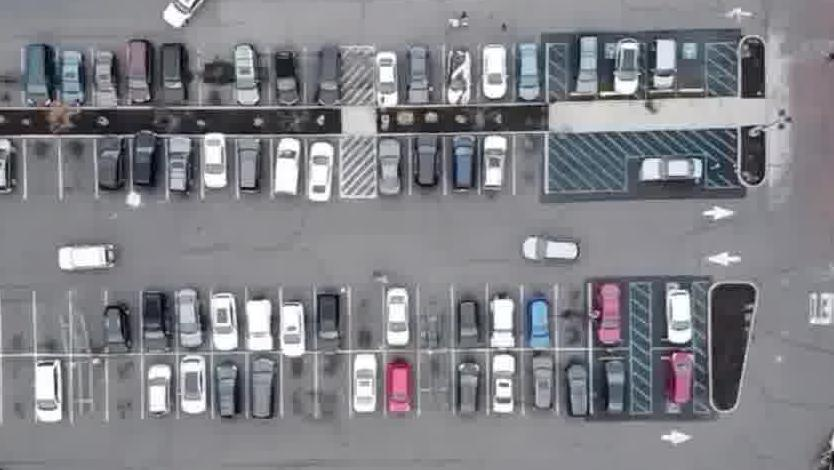car: (346, 354, 384, 421), (33, 361, 68, 431), (58, 239, 117, 279), (18, 41, 54, 106), (156, 47, 191, 112), (303, 137, 338, 202), (633, 154, 704, 186), (123, 43, 154, 112), (94, 137, 130, 196), (489, 355, 522, 419), (246, 359, 278, 425), (173, 359, 207, 421), (521, 233, 581, 268), (477, 134, 510, 197), (128, 137, 161, 200), (212, 364, 244, 427), (313, 288, 344, 353), (312, 47, 343, 111), (269, 142, 302, 202), (274, 304, 308, 362), (138, 292, 169, 355), (144, 362, 175, 425), (234, 138, 266, 199), (594, 280, 624, 345), (384, 280, 413, 345), (233, 46, 261, 113), (453, 359, 484, 419), (383, 359, 414, 419), (243, 298, 275, 356), (605, 40, 638, 96), (209, 295, 239, 356), (375, 139, 404, 201), (412, 136, 442, 195), (450, 134, 479, 195), (485, 296, 516, 353), (475, 45, 504, 105), (402, 45, 431, 105), (562, 360, 590, 422), (645, 37, 676, 93), (163, 140, 192, 199), (667, 351, 696, 410), (570, 39, 599, 97), (55, 49, 84, 107), (101, 303, 131, 359), (600, 357, 627, 419), (664, 287, 692, 346), (513, 43, 540, 104), (273, 52, 299, 115), (371, 51, 398, 111), (178, 290, 203, 354), (440, 49, 468, 106), (527, 354, 554, 413), (203, 132, 229, 193), (525, 297, 554, 350), (92, 50, 117, 111), (161, 0, 209, 29), (455, 300, 479, 353), (0, 139, 19, 197)
